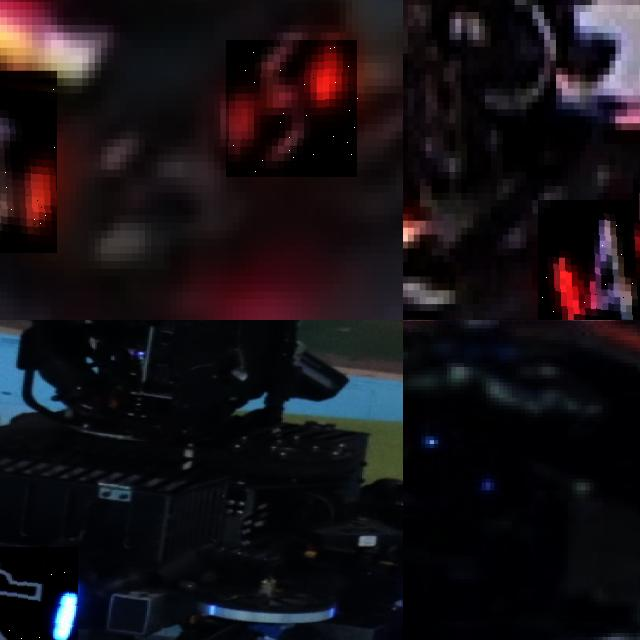Bs: (0, 546, 78, 640)
R4: (538, 200, 640, 320)
R5: (226, 40, 358, 177), (0, 70, 57, 253)
